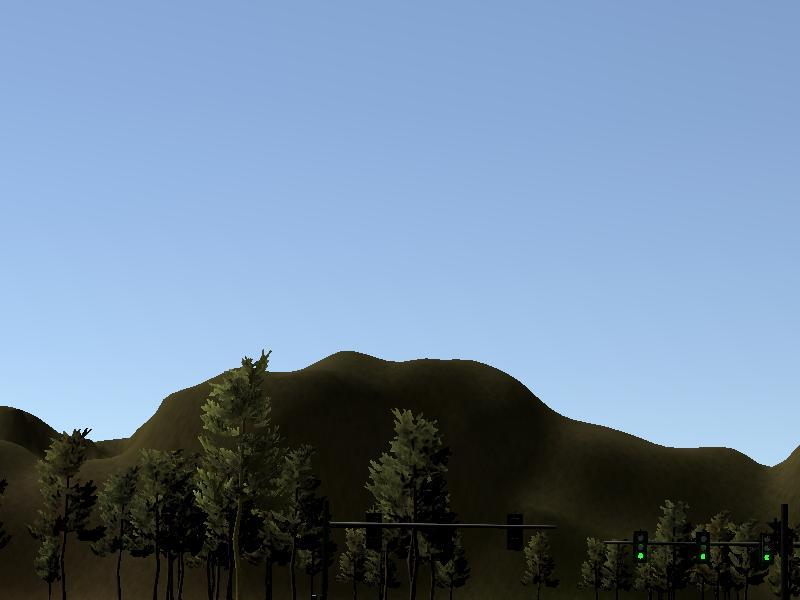Green: (633, 530, 647, 564), (759, 532, 773, 564), (699, 533, 711, 562)
